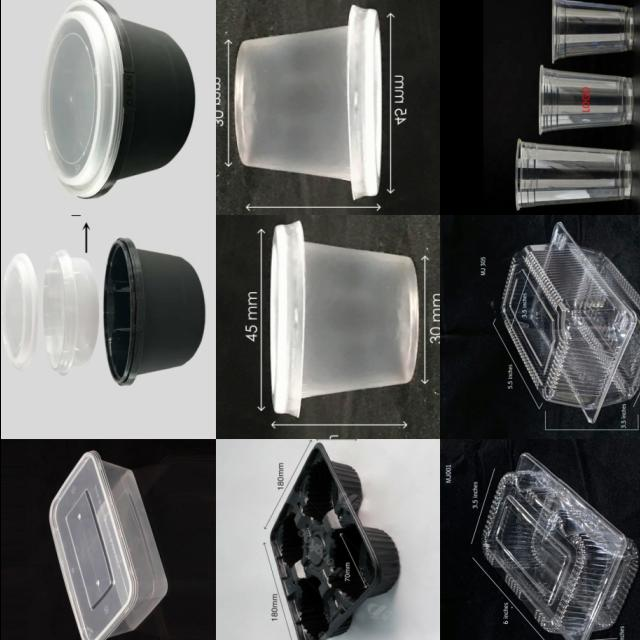plastik: (41, 0, 194, 198), (481, 453, 638, 640), (269, 221, 418, 416), (234, 5, 381, 200), (500, 222, 640, 423), (269, 444, 398, 640), (49, 452, 166, 640), (102, 239, 203, 386), (0, 249, 98, 380), (515, 139, 630, 210), (538, 66, 632, 133), (552, 0, 633, 62)
